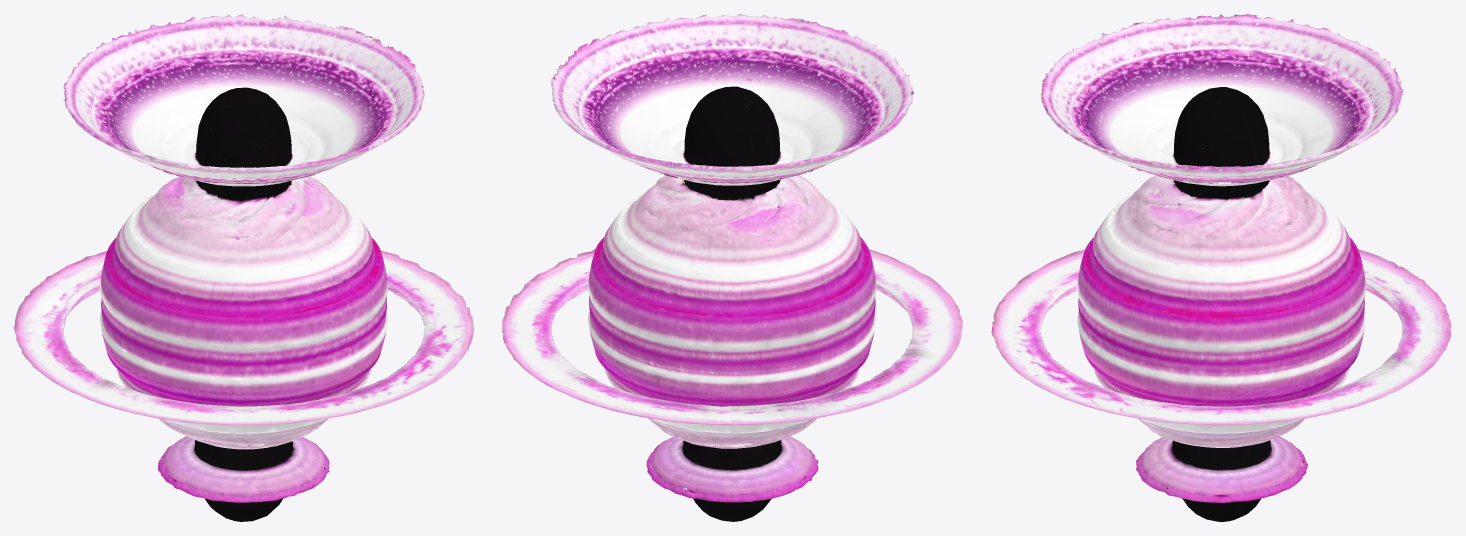
File: lens.glb
3 views of the same model, side by side, from view 1: azimuth 30°, elevation 25°; view 2: azimuth 150°, elevation 25°; view 3: azimuth 270°, elevation 25° (orthographic).
Size of the model in its own units: 1.84 by 1.88 by 1.83.
1 material, 1 textured.
